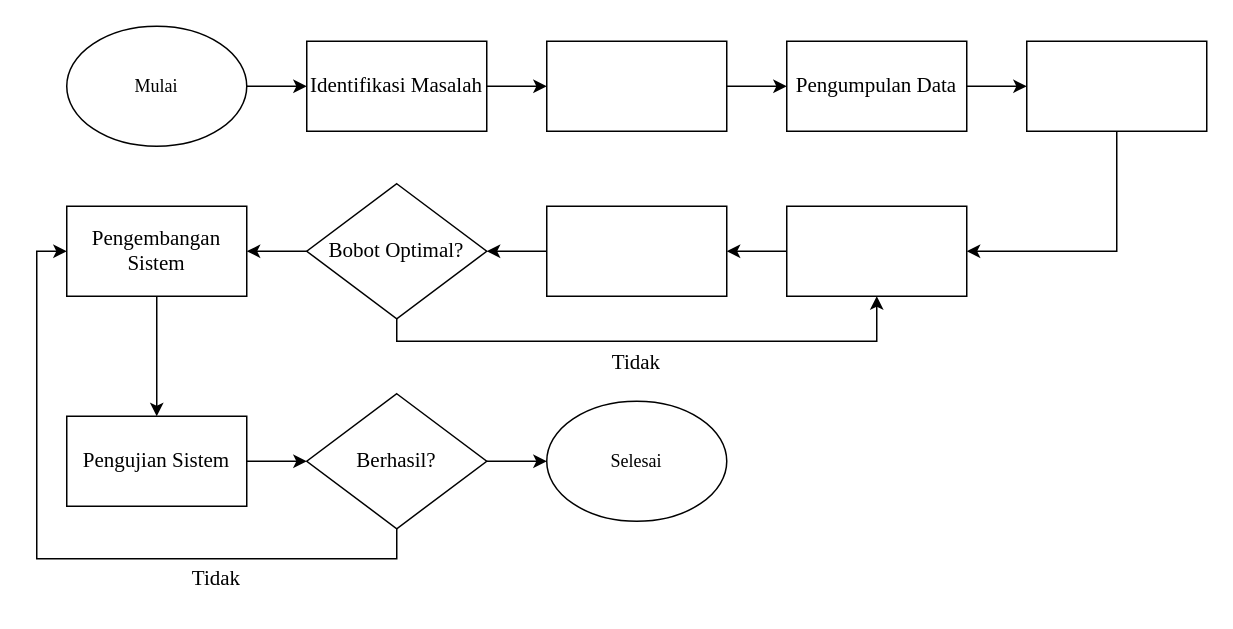
The diagram is 1233 pixels wide and 629 high, and some of its shapes have lost their labels. Here are the shapes that lost their labels. From the top down, the centre of each, then its label:
At (x=636, y=85): "Studi Literatur".
At (x=1116, y=85): "Pra-Pemrosesan Data".
At (x=636, y=250): "Evaluasi Hasil Peramalan".
At (x=876, y=250): "Penerapan Metode WMA".
